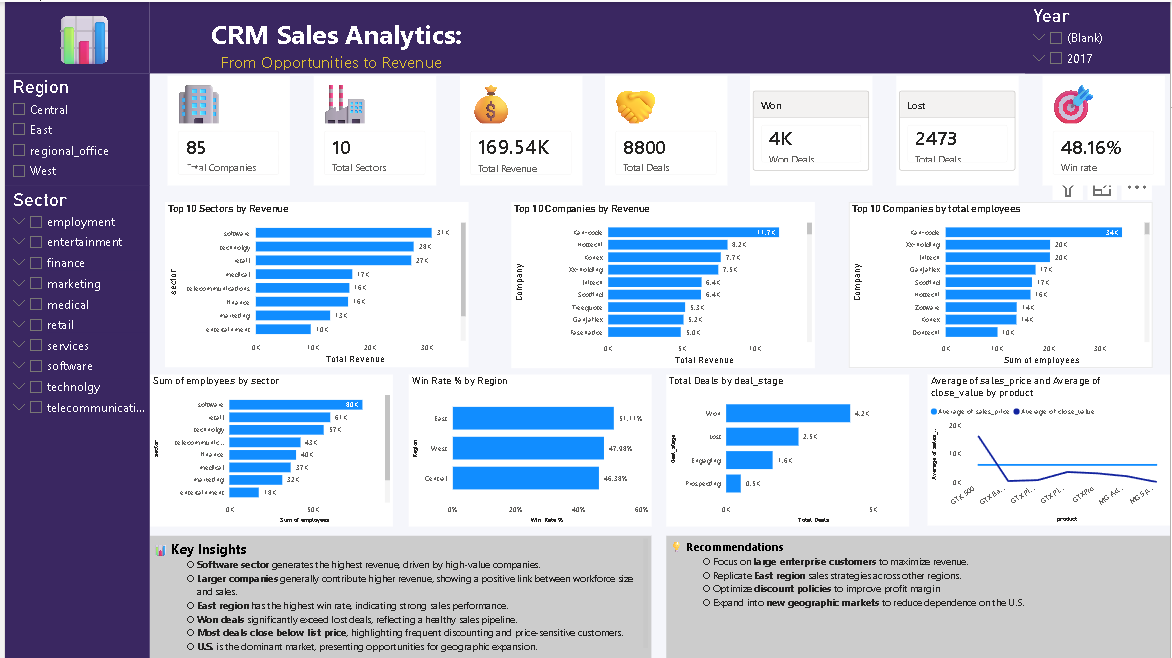

This screenshot's page, from the dashboard's own definition file:
{"tool":"powerbi","page":{"name":"Page 1","canvas":[1920,1080],"ordinal":0},"visuals":[{"type":"cardVisual","title":"🏢","fields":{"Data":["accounts.Total Companies"]},"box":[267.6,121.4,201.7,181.1],"z":0},{"type":"cardVisual","title":"🏭","fields":{"Data":["accounts.Total Sectors"]},"box":[508.4,121.4,201.7,181.1],"z":1000},{"type":"cardVisual","title":"💰","fields":{"Data":["accounts.Total Revenue"]},"box":[749.2,121.4,201.7,181.1],"z":2000},{"type":"cardVisual","title":"🤝","fields":{"Data":["accounts.Total Deals"]},"box":[988,121.4,201.7,181.1],"z":3000},{"type":"clusteredBarChart","title":"Top 10 Sectors by Revenue","fields":{"Y":["accounts.Total Revenue"],"Category":["accounts.sector"]},"box":[263.5,329.3,500.2,271.7],"z":4000},{"type":"clusteredBarChart","fields":{"Category":["accounts.sector"],"Y":["Sum(accounts.employees)"]},"box":[238.8,613.4,400,250],"z":5000},{"type":"clusteredBarChart","title":"Top 10  Companies by Revenue","fields":{"Category":["accounts.account"],"Y":["accounts.Total Revenue"]},"box":[833.6,329.3,500.2,273.8],"z":6000},{"type":"clusteredBarChart","title":"Top 10 Companies by total employees","fields":{"Category":["accounts.Company"],"Y":["Sum(accounts.employees)"]},"box":[1389.4,329.3,500.2,273.8],"z":7000},{"type":"cardVisual","title":"🏆","fields":{"Data":["accounts.Won Deals"],"Rows":["sales_pipeline.deal_stage"]},"box":[1226.8,121.4,201.7,181.1],"z":8000},{"type":"cardVisual","title":"LOST DEALS","fields":{"Data":["accounts.Total Deals"],"Rows":["sales_pipeline.deal_stage"]},"box":[1467.6,121.4,201.7,181.1],"z":9000},{"type":"cardVisual","title":"🎯","fields":{"Data":["accounts.Win rate"]},"box":[1708.4,121.4,201.7,181.1],"z":10000},{"type":"textbox","box":[238.8,0,1681.7,117.3],"z":11000},{"type":"lineChart","fields":{"Category":["sales_pipeline.product"],"Y":["Avg(products.sales_price)","Avg(sales_pipeline.close_value)"]},"box":[1519,613.4,401.4,249.1],"z":12000},{"type":"clusteredBarChart","fields":{"Y":["accounts.Total Deals"],"Category":["sales_pipeline.deal_stage"]},"box":[1088.9,613.4,400,250],"z":13000},{"type":"clusteredBarChart","fields":{"Category":["sales_teams.Column3"],"Y":["accounts.Win Rate %"]},"box":[664.8,613.4,400,250],"z":14000},{"type":"slicer","fields":{"Values":["accounts.sector","accounts.Company"]},"box":[0,302.6,238.8,778],"z":15000},{"type":"slicer","fields":{"Values":["sales_teams.Region"]},"box":[0,117.3,238.8,185.2],"z":16000},{"type":"slicer","fields":{"Values":["sales_pipeline.close_date.Variation.Date Hierarchy.Year","sales_pipeline.close_date.Variation.Date Hierarchy.Quarter","sales_pipeline.close_date.Variation.Date Hierarchy.Month","sales_pipeline.close_date.Variation.Date Hierarchy.Day"]},"box":[1679.6,0,240.8,117.3],"z":17000},{"type":"textbox","box":[0,0,238.8,117.3],"z":18000},{"type":"textbox","box":[238.8,878.9,825.4,201.7],"z":19000},{"type":"textbox","box":[1088.9,878.9,831.6,201.7],"z":20000}]}

Visuals, with their boxes in screenshot pixels (x1, y1, x2, y2), scaled from the page's 1920x1080 canvas onto the 1172x658 screenshot:
"🏢" cardVisual: <box>163,74,286,184</box>
"🏭" cardVisual: <box>310,74,433,184</box>
"💰" cardVisual: <box>457,74,580,184</box>
"🤝" cardVisual: <box>603,74,726,184</box>
"Top 10 Sectors by Revenue" clusteredBarChart: <box>161,201,466,366</box>
clusteredBarChart - accounts.sector x Sum(accounts.employees): <box>146,374,390,526</box>
"Top 10  Companies by Revenue" clusteredBarChart: <box>509,201,814,367</box>
"Top 10 Companies by total employees" clusteredBarChart: <box>848,201,1153,367</box>
"🏆" cardVisual: <box>749,74,872,184</box>
"LOST DEALS" cardVisual: <box>896,74,1019,184</box>
"🎯" cardVisual: <box>1043,74,1166,184</box>
textbox: <box>146,0,1171,71</box>
lineChart - sales_pipeline.product x Avg(products.sales_price): <box>927,374,1171,525</box>
clusteredBarChart - accounts.Total Deals x sales_pipeline.deal_stage: <box>665,374,909,526</box>
clusteredBarChart - sales_teams.Column3 x accounts.Win Rate %: <box>406,374,650,526</box>
slicer - accounts.sector x accounts.Company: <box>0,184,146,657</box>
slicer - sales_teams.Region: <box>0,71,146,184</box>
slicer - sales_pipeline.close_date.Variation.Date Hierarchy.Year x sales_pipeline.close_date.Variation.Date Hierarchy.Quarter: <box>1025,0,1171,71</box>
textbox: <box>0,0,146,71</box>
textbox: <box>146,535,650,657</box>
textbox: <box>665,535,1171,657</box>
